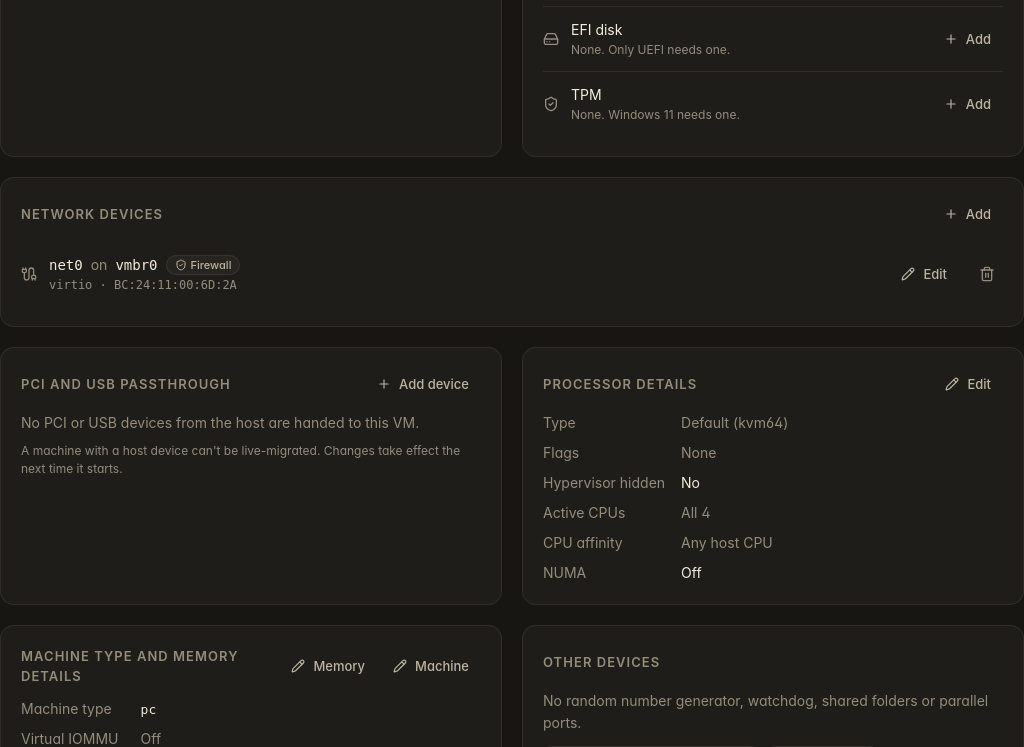
Test: hardware: processor, machine type, devices and options (GU-021 to GU-027, GU-046 to GU-048, GU-070 to GU-075) › refuses more active CPUs than the VM has
(page scrolled)
Click the button "Edit" in the row of "Processor details" at coordinates (968, 384), box [933,368,1003,400]
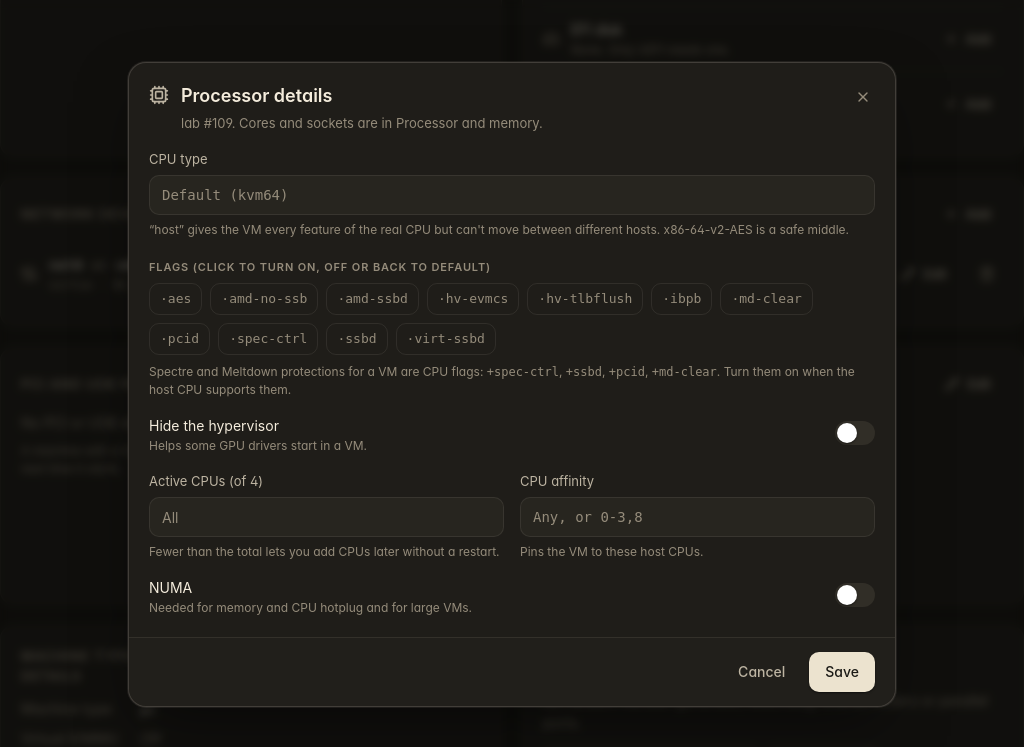
Type "999" into the number field labelled "Active CPUs" at coordinates (326, 516), box [149,496,504,536]
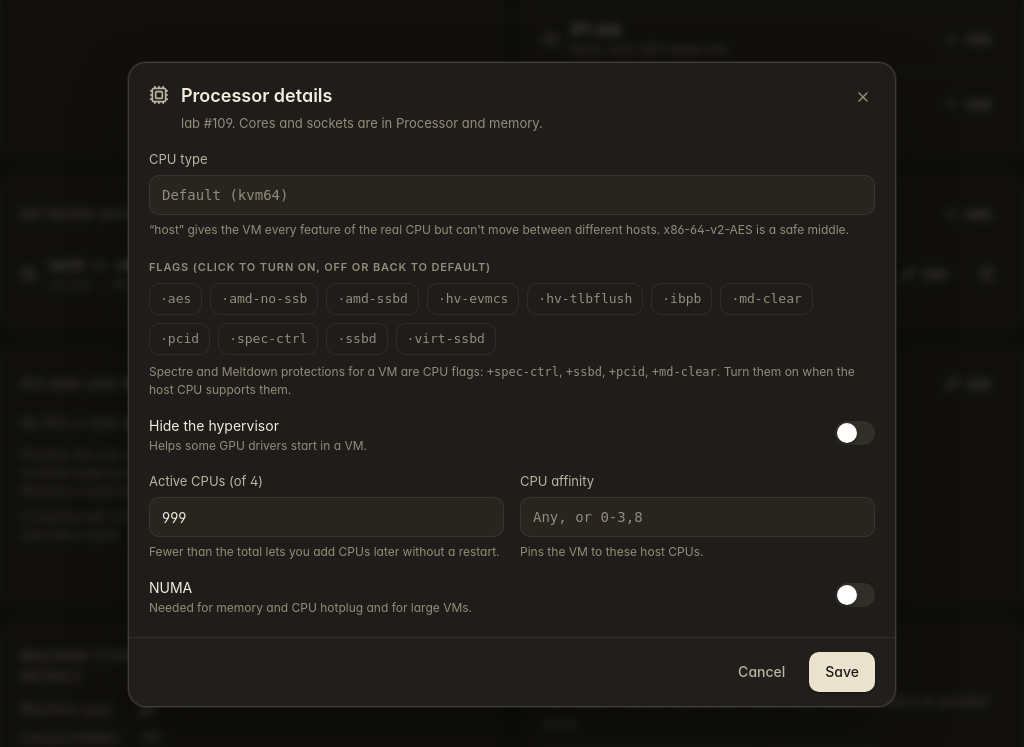
Click the button "Save" at coordinates (842, 672), box [809,652,875,692]
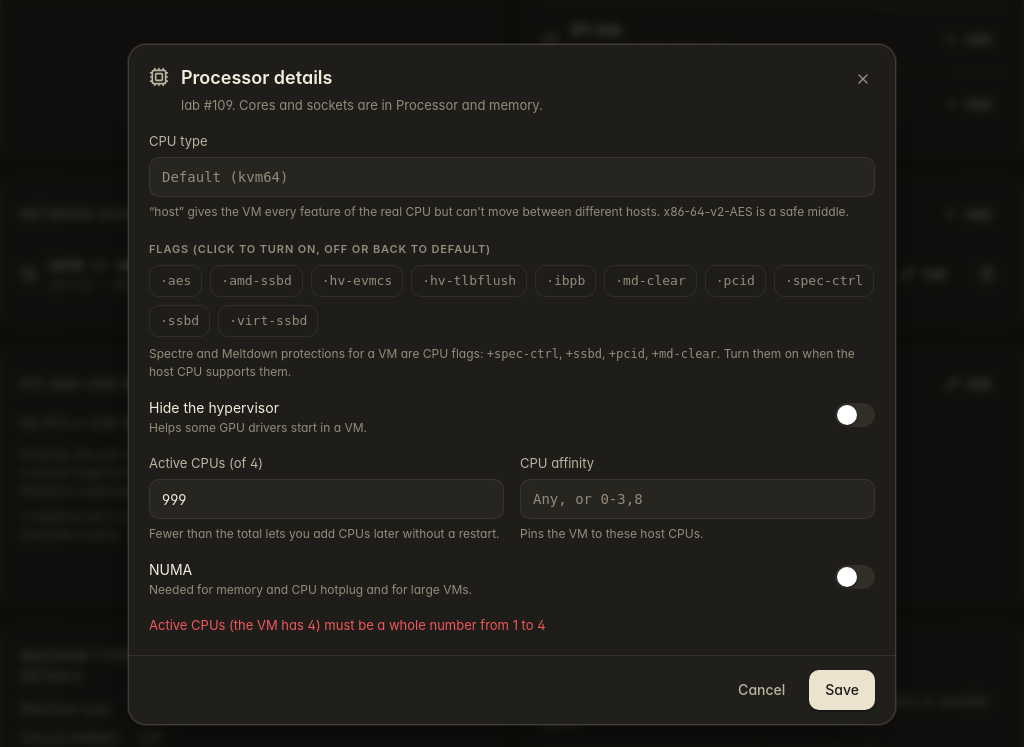
Expected: the message shows "Active CPUs", [149,616,546,632]
